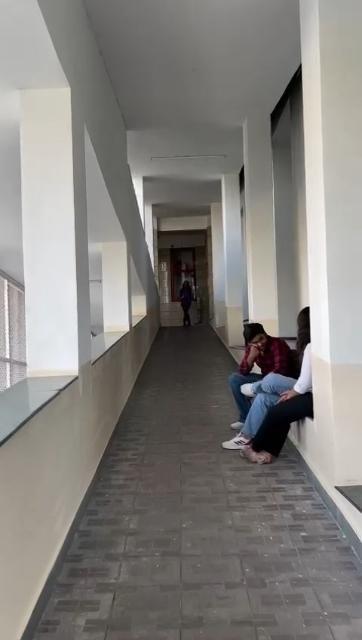floor: (35, 328, 362, 636)
moving-obj: (227, 316, 321, 476)
wall: (0, 305, 159, 640), (318, 6, 362, 470), (31, 18, 78, 376), (237, 114, 273, 322), (105, 130, 131, 334), (215, 174, 239, 322)
